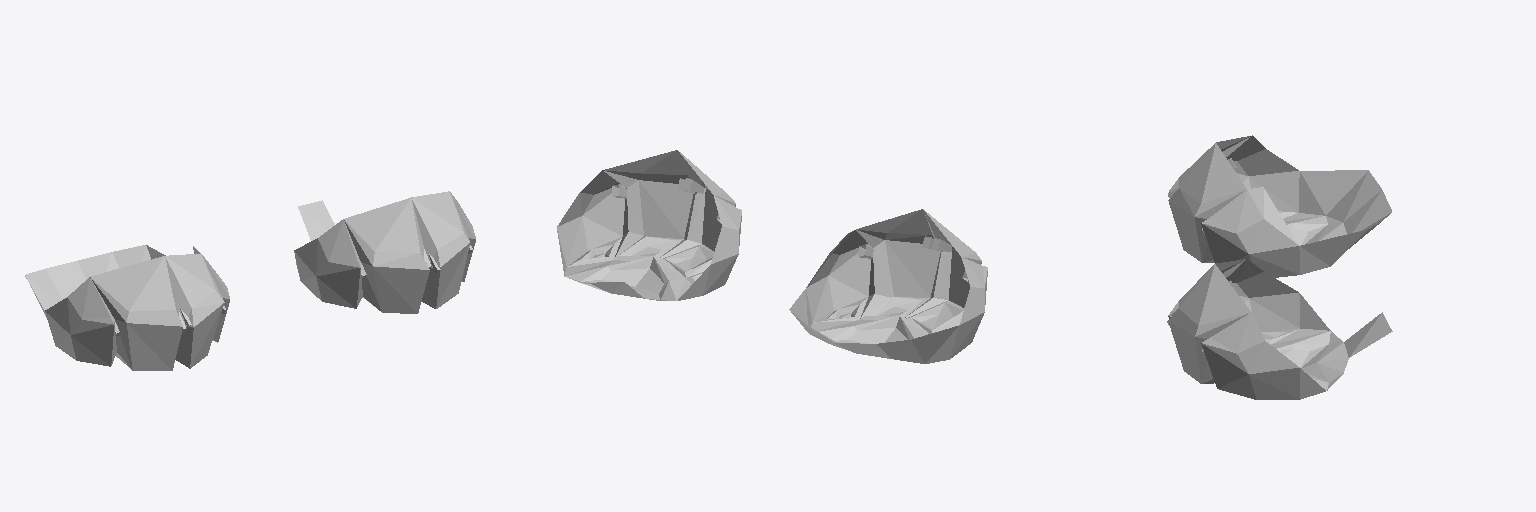
File: front_paws.obj
The picture shows the model from 3 angles: view 1: azimuth 30°, elevation 25°; view 2: azimuth 150°, elevation 25°; view 3: azimuth 270°, elevation 25°; orthographic projection.
Bounding box in the file's own units: 0.2141 × 0.0545 × 0.1037.